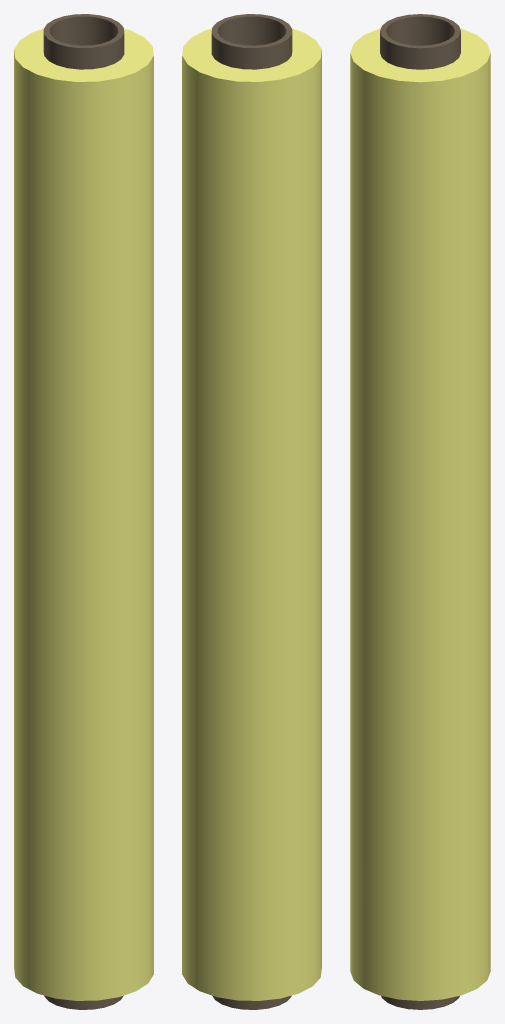
The model's file is RolGeel.fbx.
The picture shows the model from 3 angles, left to right: view 1: azimuth 30°, elevation 25°; view 2: azimuth 150°, elevation 25°; view 3: azimuth 270°, elevation 25°; orthographic projection.
Parts seen in each view (by area): view 1: textielrol7; view 2: textielrol7; view 3: textielrol7.
Boxes of the visible parts, x1,y1,x2,y2 form: textielrol7: [14, 14, 153, 1009]; textielrol7: [182, 14, 321, 1009]; textielrol7: [350, 14, 490, 1009].
Bounding box in the file's own units: 0.2449 × 1.85 × 0.2449.
